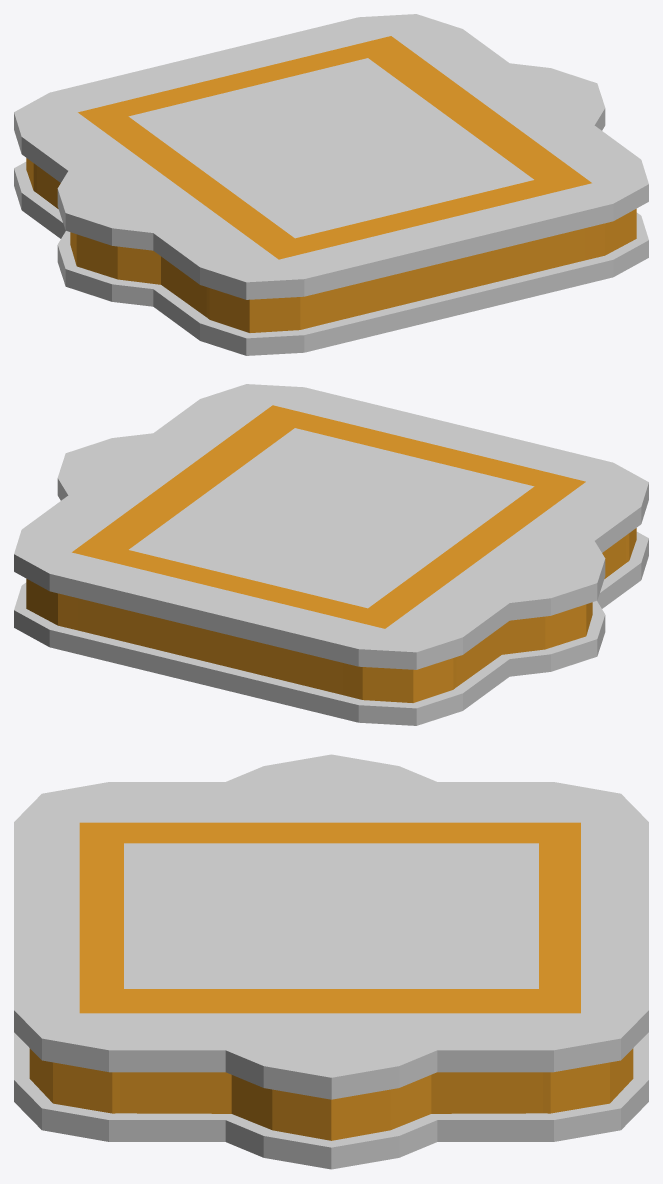
File: Buildings-platform2.fbx
3 views of the same model, one above another, from view 1: azimuth 30°, elevation 25°; view 2: azimuth 150°, elevation 25°; view 3: azimuth 270°, elevation 25° (orthographic). The views are drawn at different scales.
Parts seen in each view (by area): view 1: BuildingBase4.001; view 2: BuildingBase4.001; view 3: BuildingBase4.001.
Part boxes in pixels (<box>): BuildingBase4.001: <box>14,14,648,355</box>; BuildingBase4.001: <box>14,384,648,725</box>; BuildingBase4.001: <box>14,754,648,1169</box>.
Bounding box in the file's own units: 24.1 × 3.19 × 20.
